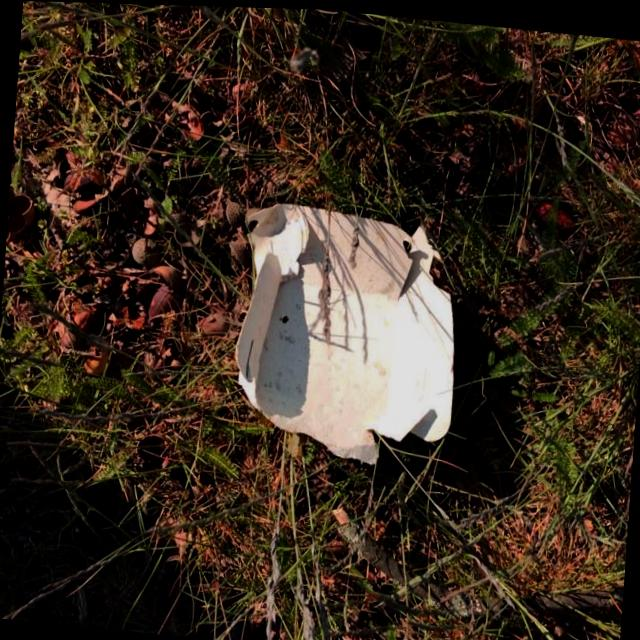Paper: (220, 189, 470, 475)
